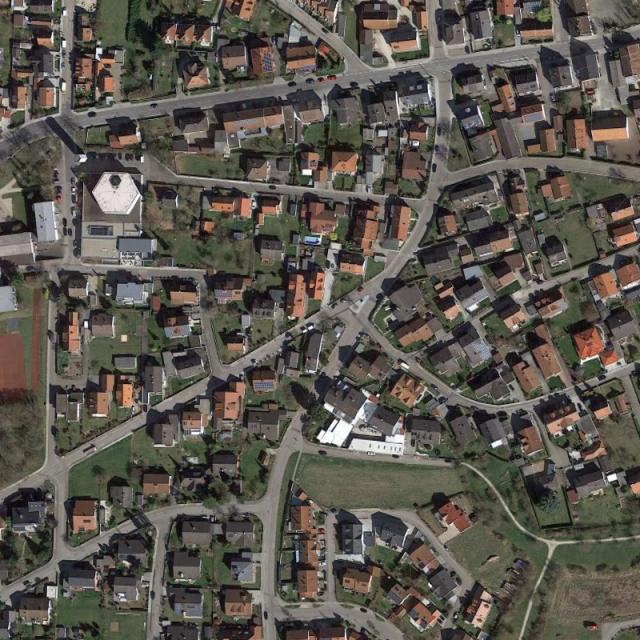vehicle: (83, 446, 98, 457), (397, 359, 411, 370), (307, 323, 316, 332), (356, 286, 366, 293), (319, 512, 330, 518), (321, 27, 329, 35), (87, 112, 97, 118), (62, 83, 67, 94), (587, 626, 600, 630), (264, 610, 269, 620), (516, 27, 521, 37), (72, 207, 77, 217), (139, 153, 144, 163), (331, 302, 338, 309), (317, 78, 325, 84), (62, 41, 67, 50), (63, 8, 67, 19), (340, 298, 347, 304), (360, 608, 367, 614), (431, 384, 438, 390), (329, 75, 337, 80), (289, 82, 297, 87), (437, 127, 442, 135), (63, 218, 68, 226), (318, 528, 326, 533), (435, 144, 440, 152), (318, 450, 327, 454), (62, 62, 66, 71), (53, 187, 62, 191), (151, 591, 155, 600), (369, 451, 376, 456), (62, 51, 67, 58), (68, 230, 73, 237), (454, 612, 459, 619), (433, 163, 437, 171), (306, 81, 314, 85), (150, 104, 158, 108), (71, 178, 75, 186), (54, 198, 62, 202), (466, 46, 470, 54), (302, 330, 309, 334), (64, 228, 68, 235), (73, 187, 76, 195), (392, 455, 399, 458), (54, 193, 62, 195)
